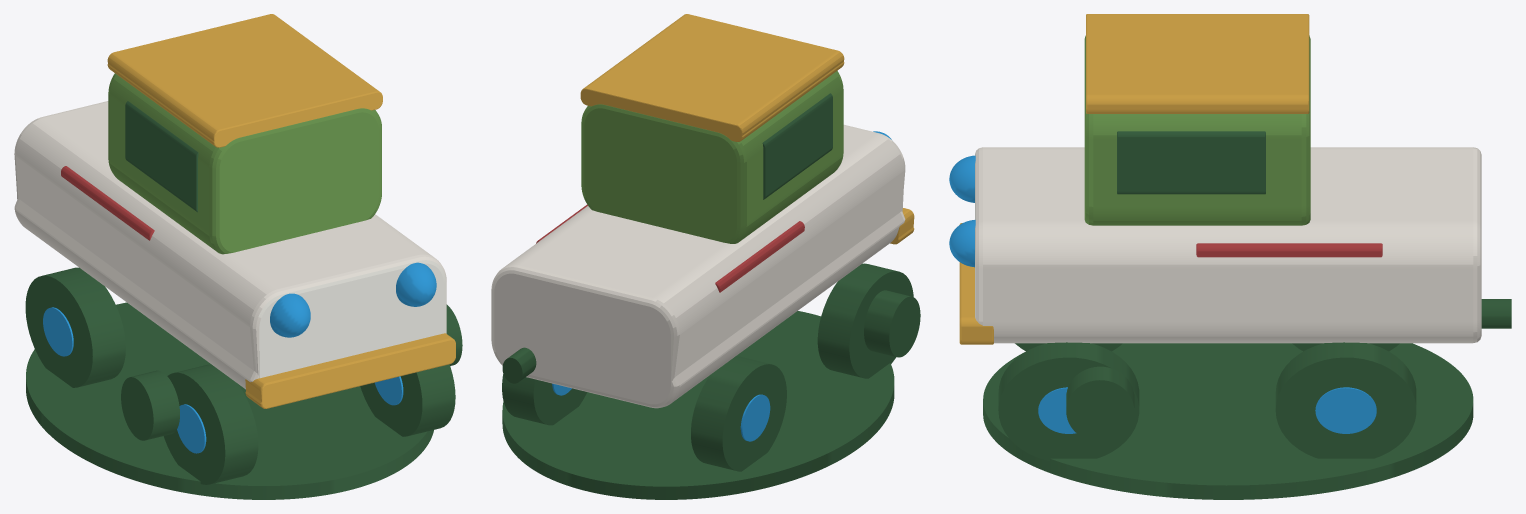
Rendered from 0378_欧洲文明图鉴_维京战士.glb.
3 renders of one model, left to right at view 1: azimuth 30°, elevation 25°; view 2: azimuth 150°, elevation 25°; view 3: azimuth 270°, elevation 25°, orthographic. The views are drawn at different scales.
Parts seen in each view (by area): view 1: card_0378; view 2: card_0378; view 3: card_0378.
Boxes of the visible parts, x1,y1,x2,y2 form: card_0378: (14,14,462,499); card_0378: (491,14,920,499); card_0378: (949,14,1511,499).
Size of the model in its own units: 1.02 by 1 by 1.42.
